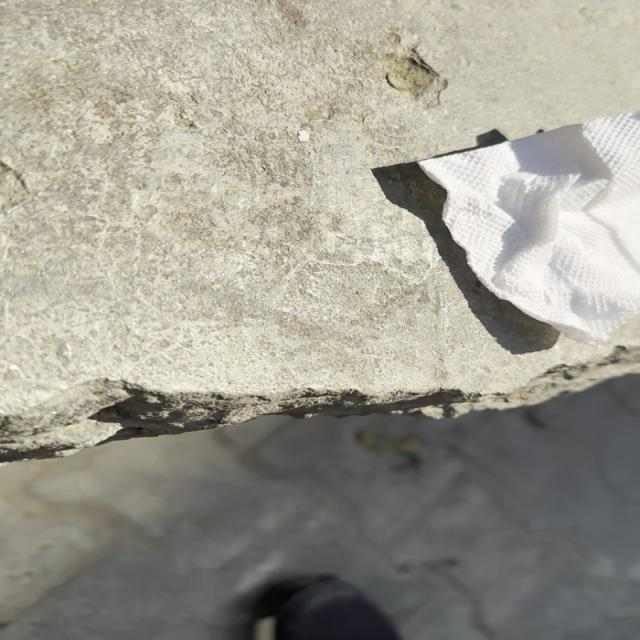tissue: (410, 108, 640, 352)
